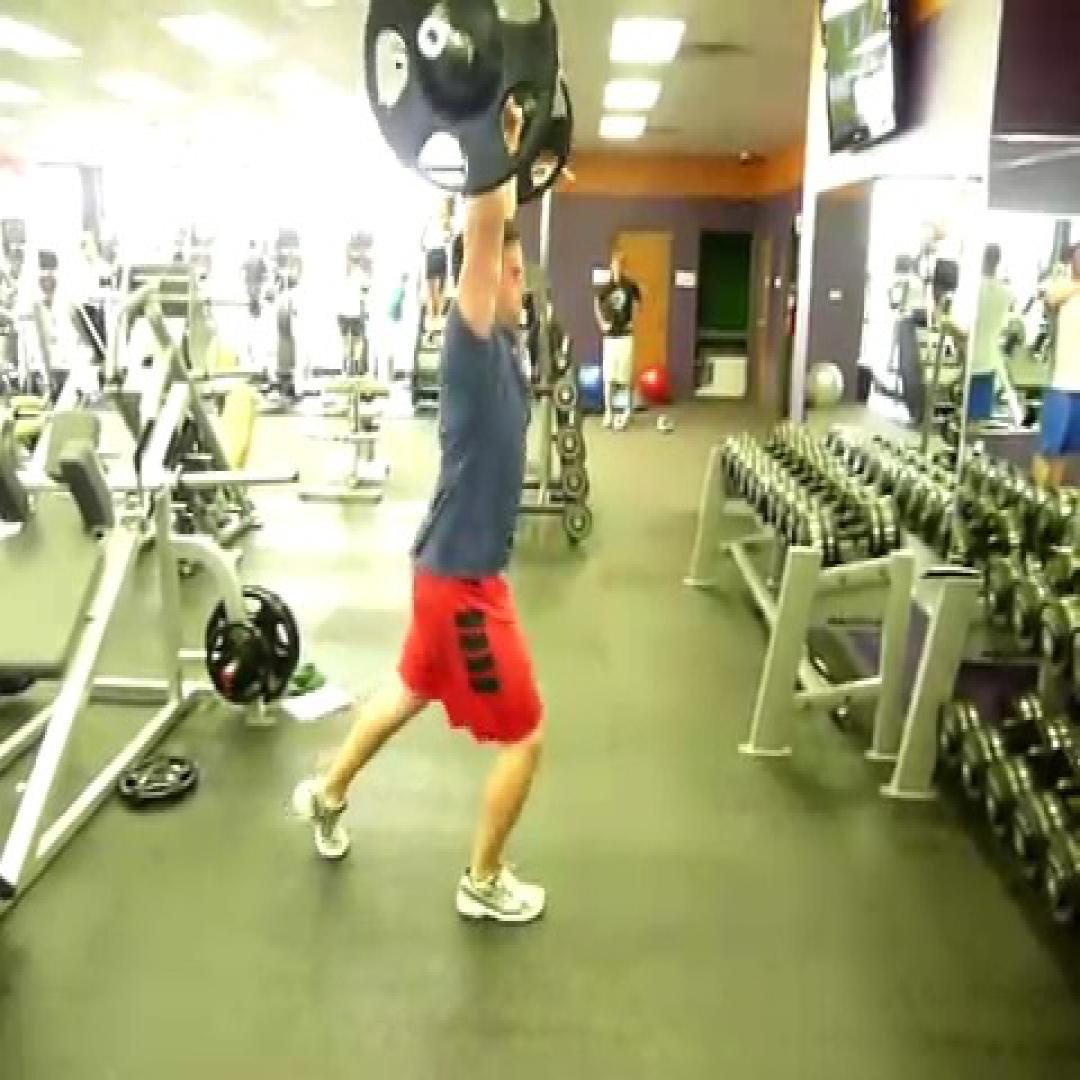Bar: (414, 15, 452, 60)
Barbell: (362, 0, 558, 192)
